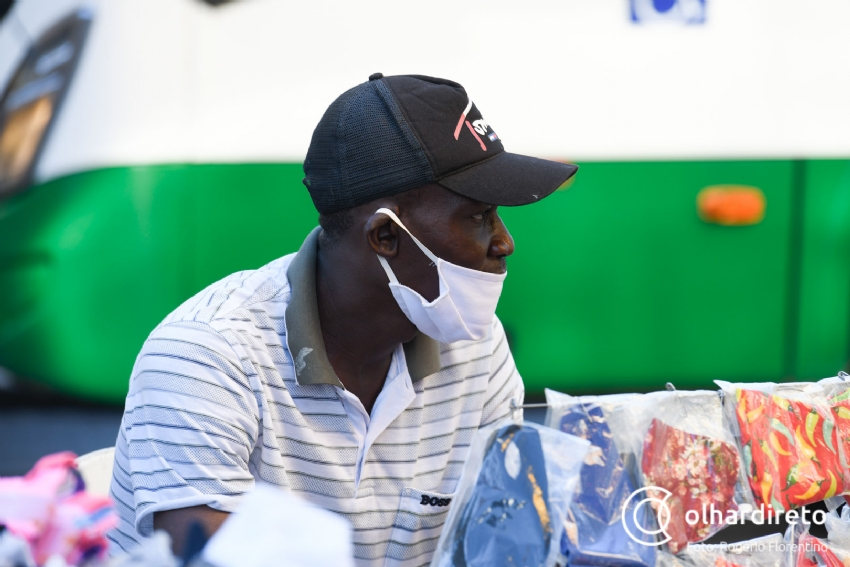mask_weared_incorrect: (360, 193, 533, 352)
